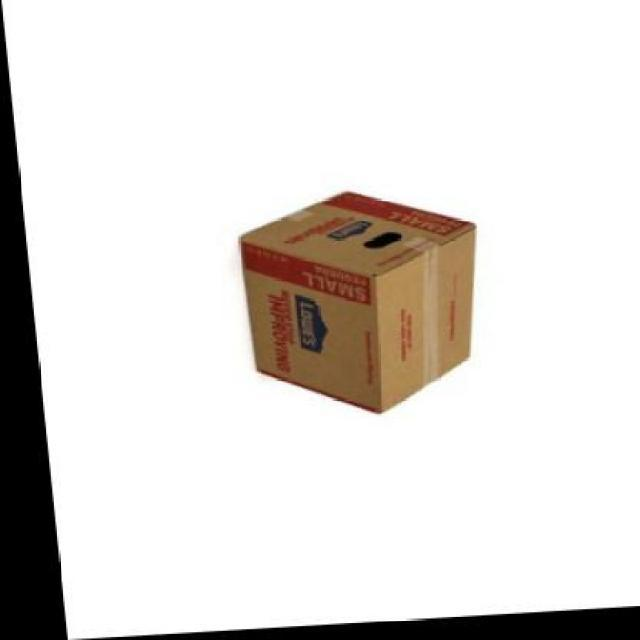box: (234, 188, 489, 422)
